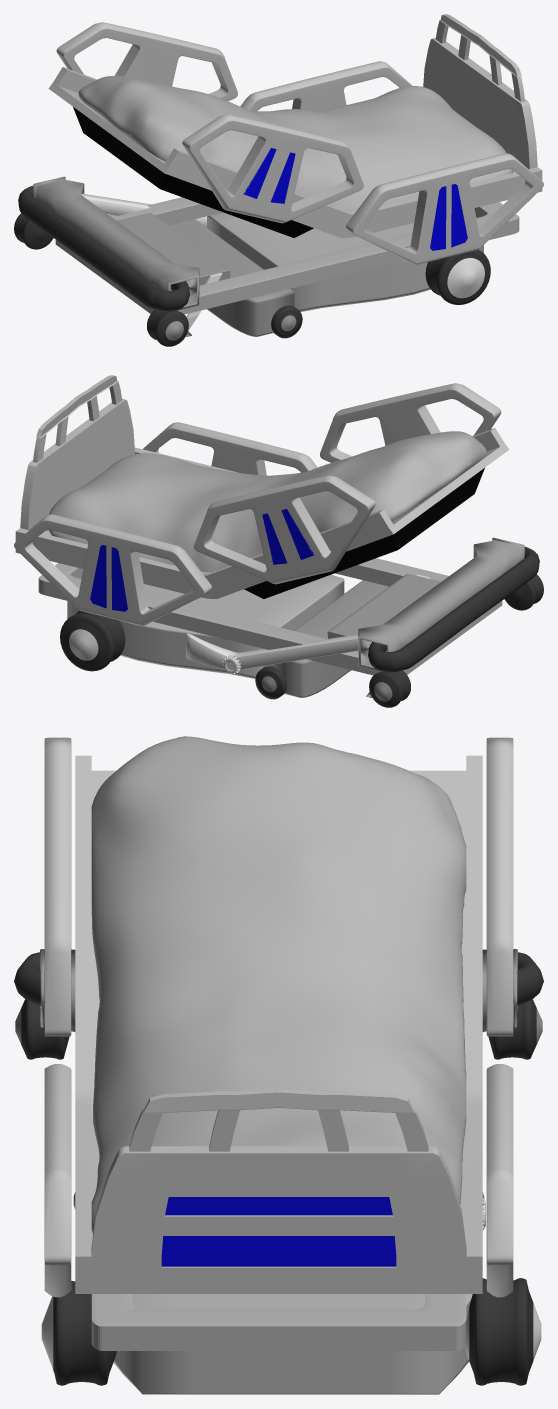
The model's file is Bed.fbx.
The picture shows the model from 3 angles, top to bottom: view 1: azimuth 30°, elevation 25°; view 2: azimuth 150°, elevation 25°; view 3: azimuth 270°, elevation 25°; orthographic projection. The views are drawn at different scales.
Visible parts, largest first — view 1: Blue Plastic, Cube.002, Cube.003, Cube.009, Cube, Cube.006, Cube.011, Cube.004, Cube.008; view 2: Blue Plastic, Cube.002, Cube.003, Cube.009, Cube, Cube.006, Cube.010, Cube.008, Cube.004; view 3: Cube.002, Blue Plastic, Cube.009, Cube, Cube.003, Cube.010, Cube.011.
Part boxes in pixels (x1,y1,x2,y2): Blue Plastic: [48, 14, 543, 265]; Cube.002: [78, 76, 513, 211]; Cube.003: [14, 176, 199, 346]; Cube.009: [207, 212, 483, 311]; Cube: [55, 197, 519, 314]; Cube.006: [169, 219, 302, 338]; Cube.011: [425, 249, 490, 304]; Cube.004: [117, 213, 230, 285]; Cube.008: [81, 193, 206, 227]; Blue Plastic: [14, 375, 509, 626]; Cube.002: [48, 431, 487, 572]; Cube.003: [358, 537, 543, 707]; Cube.009: [67, 574, 344, 678]; Cube: [38, 558, 502, 675]; Cube.006: [255, 580, 388, 699]; Cube.010: [60, 610, 125, 671]; Cube.008: [186, 633, 358, 669]; Cube.004: [327, 574, 440, 638]; Cube.002: [91, 736, 466, 1233]; Blue Plastic: [44, 737, 513, 1297]; Cube.009: [113, 1294, 472, 1394]; Cube: [91, 1294, 466, 1350]; Cube.003: [14, 949, 543, 1059]; Cube.010: [465, 1278, 541, 1385]; Cube.011: [41, 1281, 116, 1385].
Size of the model in its own units: 1052 by 620 by 685.
